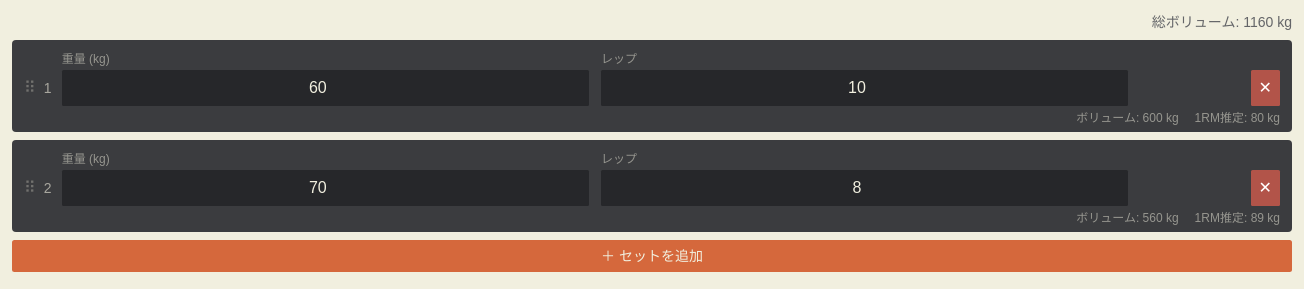
Test: ExerciseSetEditor 保存失敗時の挙動（保持＋手動リトライ） › 保存に失敗しても入力値を保持し、自動リトライせず、再試行ボタンで復帰する
The image size is (1304, 289).
Replace the text in the 2nd number field with "12" at (864, 88), box [601,70,1128,106]
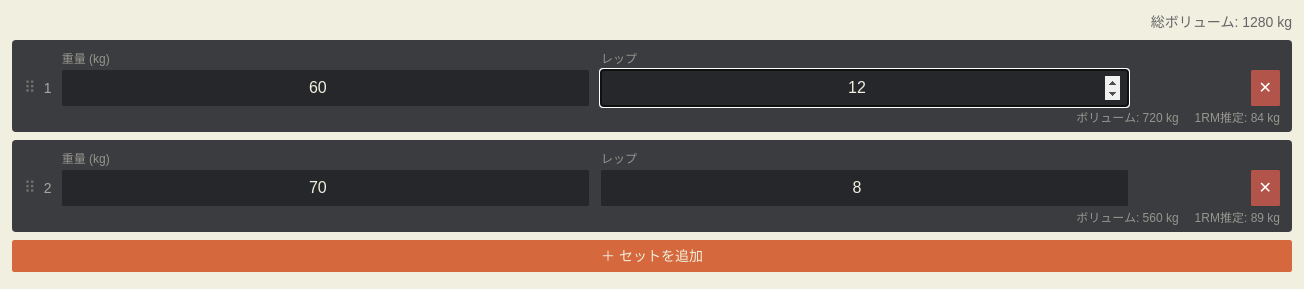
Press Tab
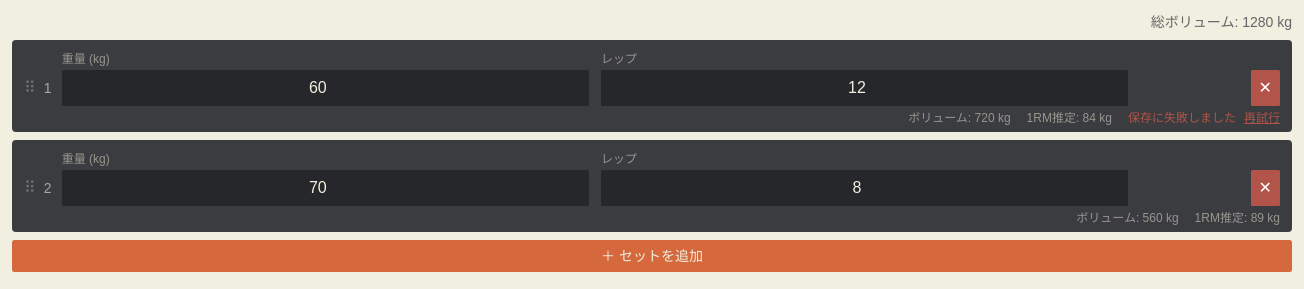
Now the text "保存に失敗しました" is shown, box [1128,111,1236,125]
Click the button "再試行" at (1262, 118), box [1244,110,1280,126]
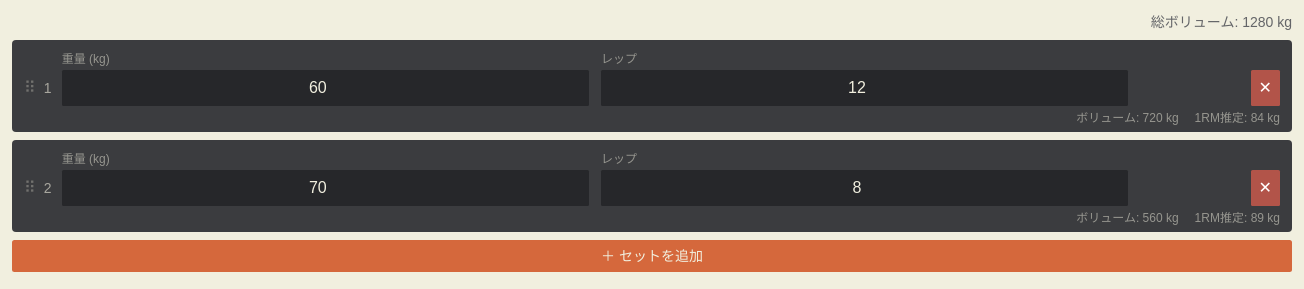
Now the text "保存に失敗しました" is gone
